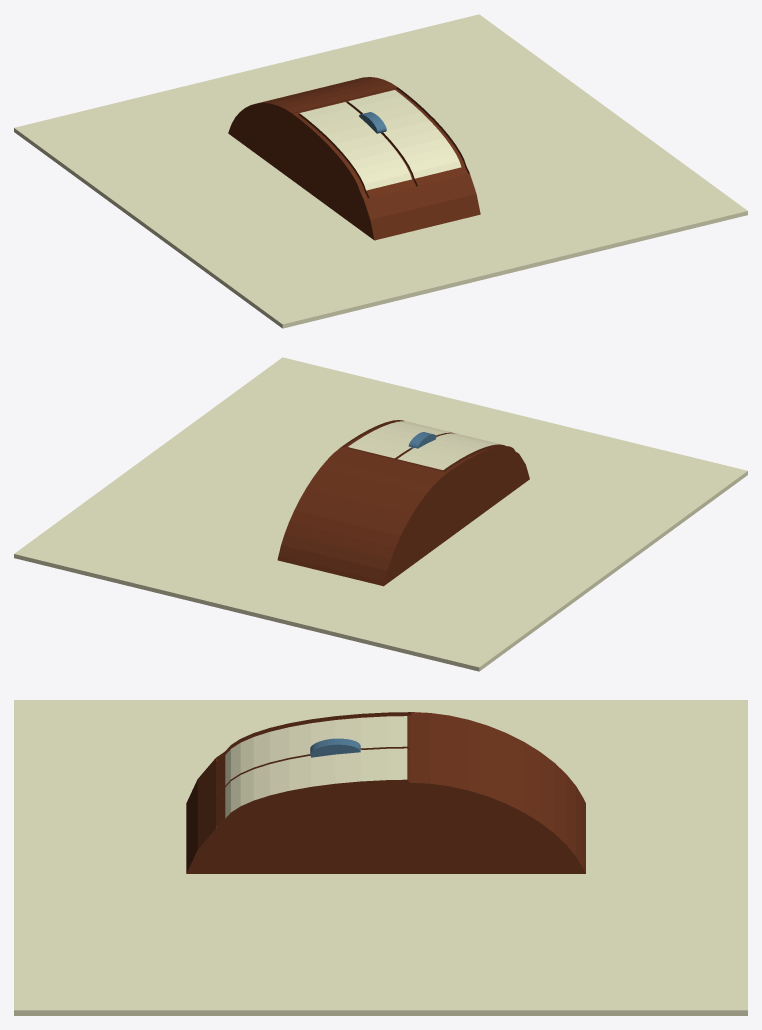
The model's file is Mouse.fbx.
3 renders of one model, top to bottom at view 1: azimuth 30°, elevation 25°; view 2: azimuth 150°, elevation 25°; view 3: azimuth 270°, elevation 25°, orthographic. The views are drawn at different scales.
Parts seen in each view (by area): view 1: MousePad.001; view 2: MousePad.001; view 3: MousePad.001.
Boxes of the visible parts, <box> form: MousePad.001: <box>14,14,747,328</box>; MousePad.001: <box>14,357,747,671</box>; MousePad.001: <box>14,700,747,1015</box>.
Size of the model in its own units: 0.2367 by 0.0398 by 0.2367.
